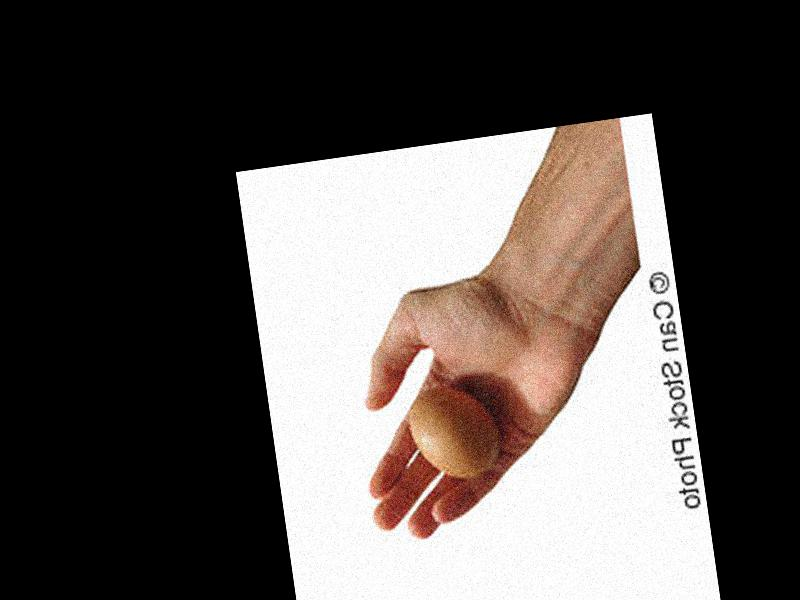Eggs: (409, 383, 502, 485)
